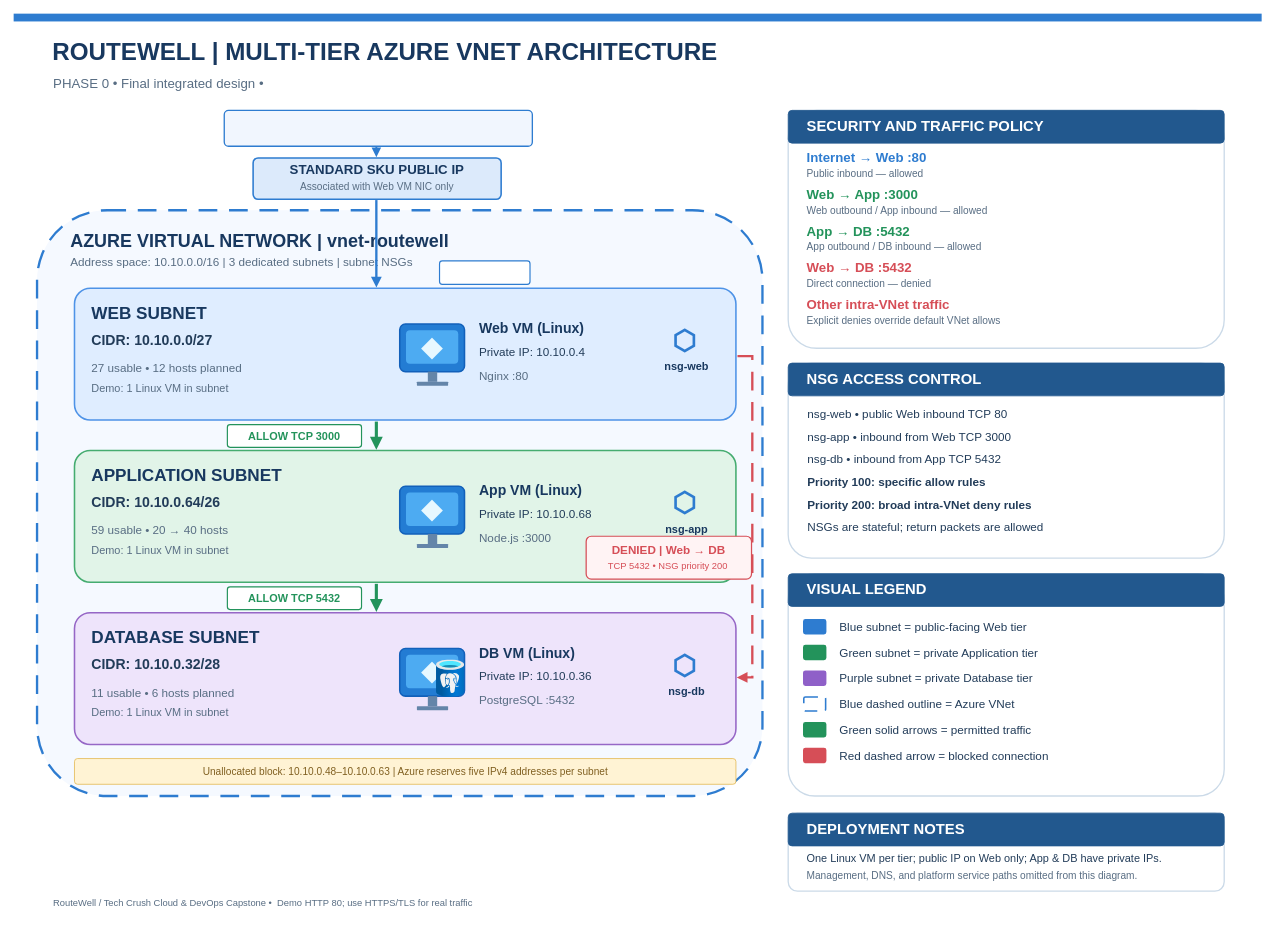
This 1275x927 diagram has some shape labels left out. Each missing label, with the box of its shape:
HTTP TCP 80: (439, 260, 530, 285)
☁ INTERNET USERS | Dispatch staff / clients: (223, 109, 533, 147)
